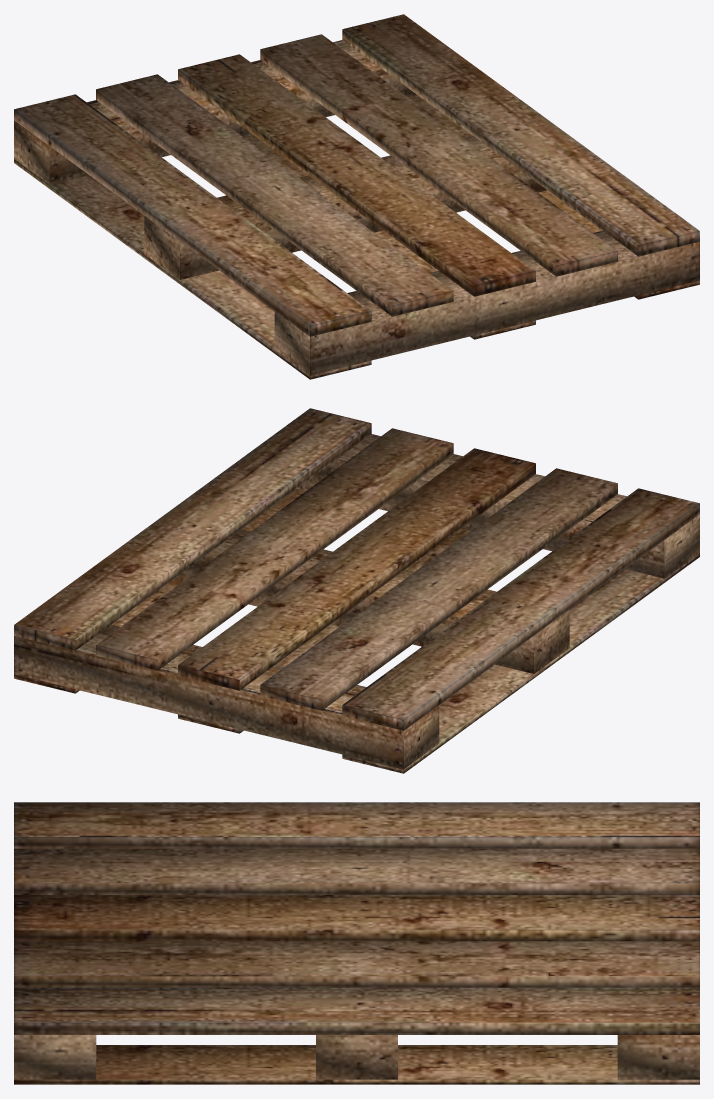
Rendered from psx_industrial_pack_pallet.glb.
The picture shows the model from 3 angles, top to bottom: view 1: azimuth 30°, elevation 25°; view 2: azimuth 150°, elevation 25°; view 3: azimuth 270°, elevation 25°; orthographic projection. The views are drawn at different scales.
Parts seen in each view (by area): view 1: Pallet; view 2: Pallet; view 3: Pallet.
Part boxes in pixels (x1=…): Pallet: x1=14, y1=14, x2=699, y2=379; Pallet: x1=14, y1=408, x2=699, y2=773; Pallet: x1=14, y1=802, x2=699, y2=1084.
Bounding box in the file's own units: 0.95 × 0.125 × 1.25.
1 material, 1 textured.
